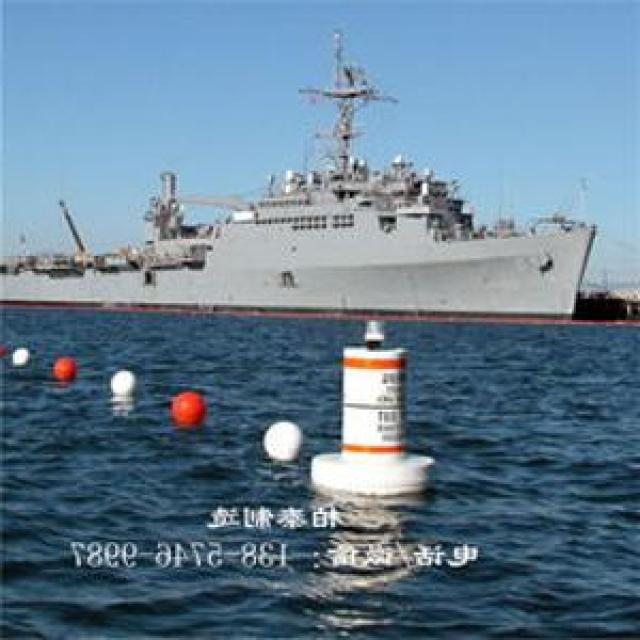buoy: (325, 331, 449, 485), (253, 415, 316, 489), (168, 383, 206, 431), (107, 363, 145, 398), (7, 340, 36, 367), (56, 355, 76, 390)
navalvessels: (7, 79, 598, 331)
